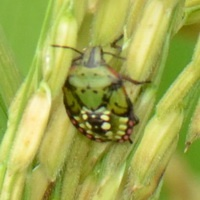insect: (52, 45, 149, 142)
